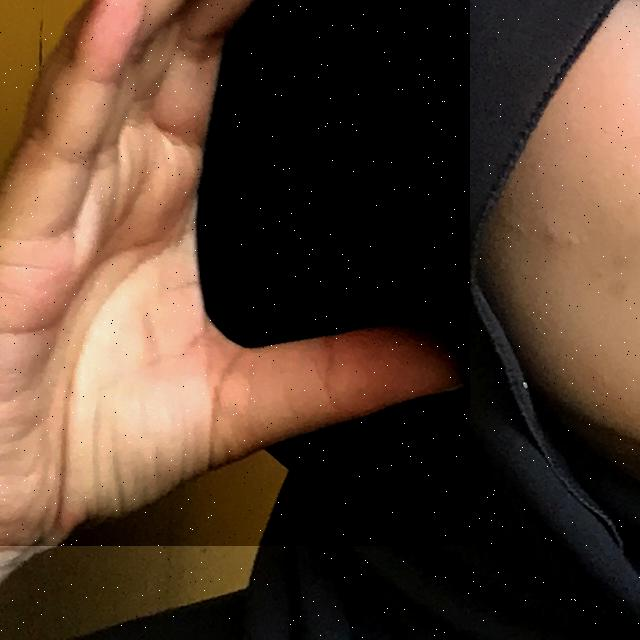mendengar: (0, 0, 470, 546)
